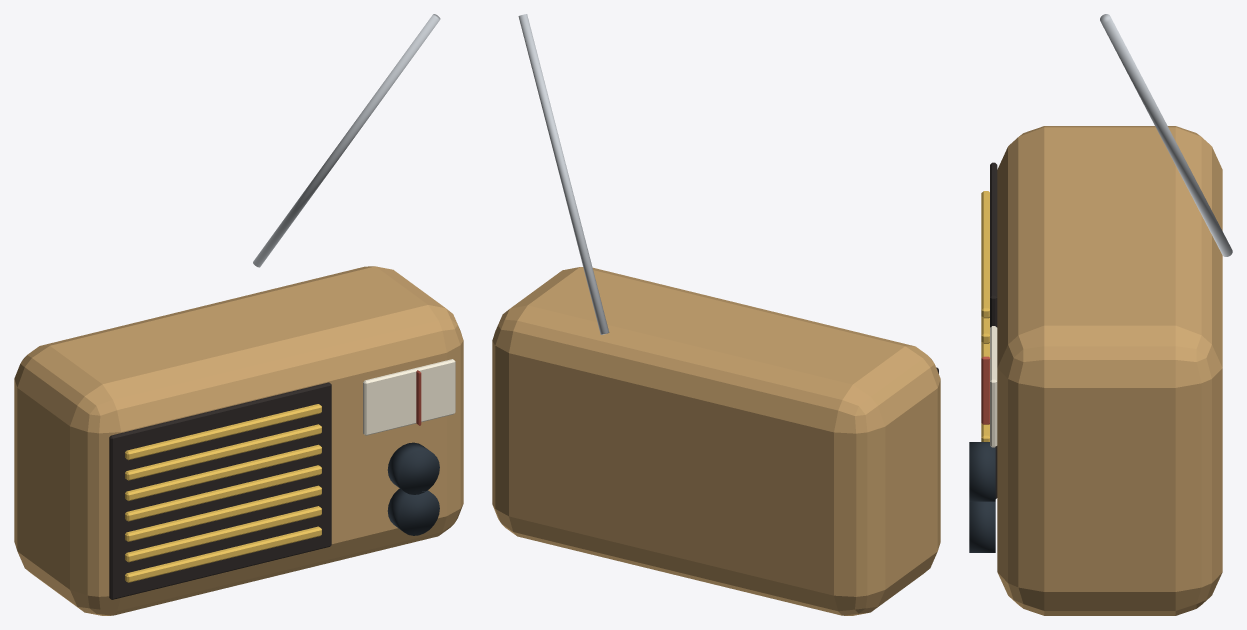
Rendered from radio.glb.
The picture shows the model from 3 angles, left to right: view 1: azimuth 30°, elevation 25°; view 2: azimuth 150°, elevation 25°; view 3: azimuth 270°, elevation 25°; orthographic projection. The views are drawn at different scales.
Visible parts, largest first — view 1: body, grille-bg, dial-window, antenna, grille-slit, grille-slit.002, grille-slit.001, grille-slit.003, grille-slit.006, grille-slit.004, grille-slit.005, knob (+1 smaller); view 2: body, antenna; view 3: body, antenna, knob, grille-bg, knob.001, grille-slit.006, dial-window, dial-needle.
Boxes of the visible parts, x1,y1,x2,y2 form: body: (14, 266, 463, 615); grille-bg: (109, 382, 331, 599); dial-window: (363, 359, 455, 435); antenna: (253, 14, 440, 267); grille-slit: (125, 526, 321, 582); grille-slit.002: (125, 485, 321, 541); grille-slit.001: (125, 506, 321, 562); grille-slit.003: (125, 465, 321, 521); grille-slit.006: (125, 404, 321, 460); grille-slit.004: (125, 444, 321, 500); grille-slit.005: (125, 424, 321, 480); knob: (387, 442, 439, 494); body: (492, 267, 940, 615); antenna: (518, 14, 609, 334); body: (997, 126, 1222, 615); antenna: (1100, 14, 1232, 256); knob: (969, 442, 995, 501); grille-bg: (990, 162, 997, 498); knob.001: (969, 501, 995, 552); grille-slit.006: (981, 191, 989, 318); dial-window: (990, 326, 997, 447); dial-needle: (981, 356, 990, 424).
Size of the model in its own units: 0.303 by 0.3639 by 0.1404.
